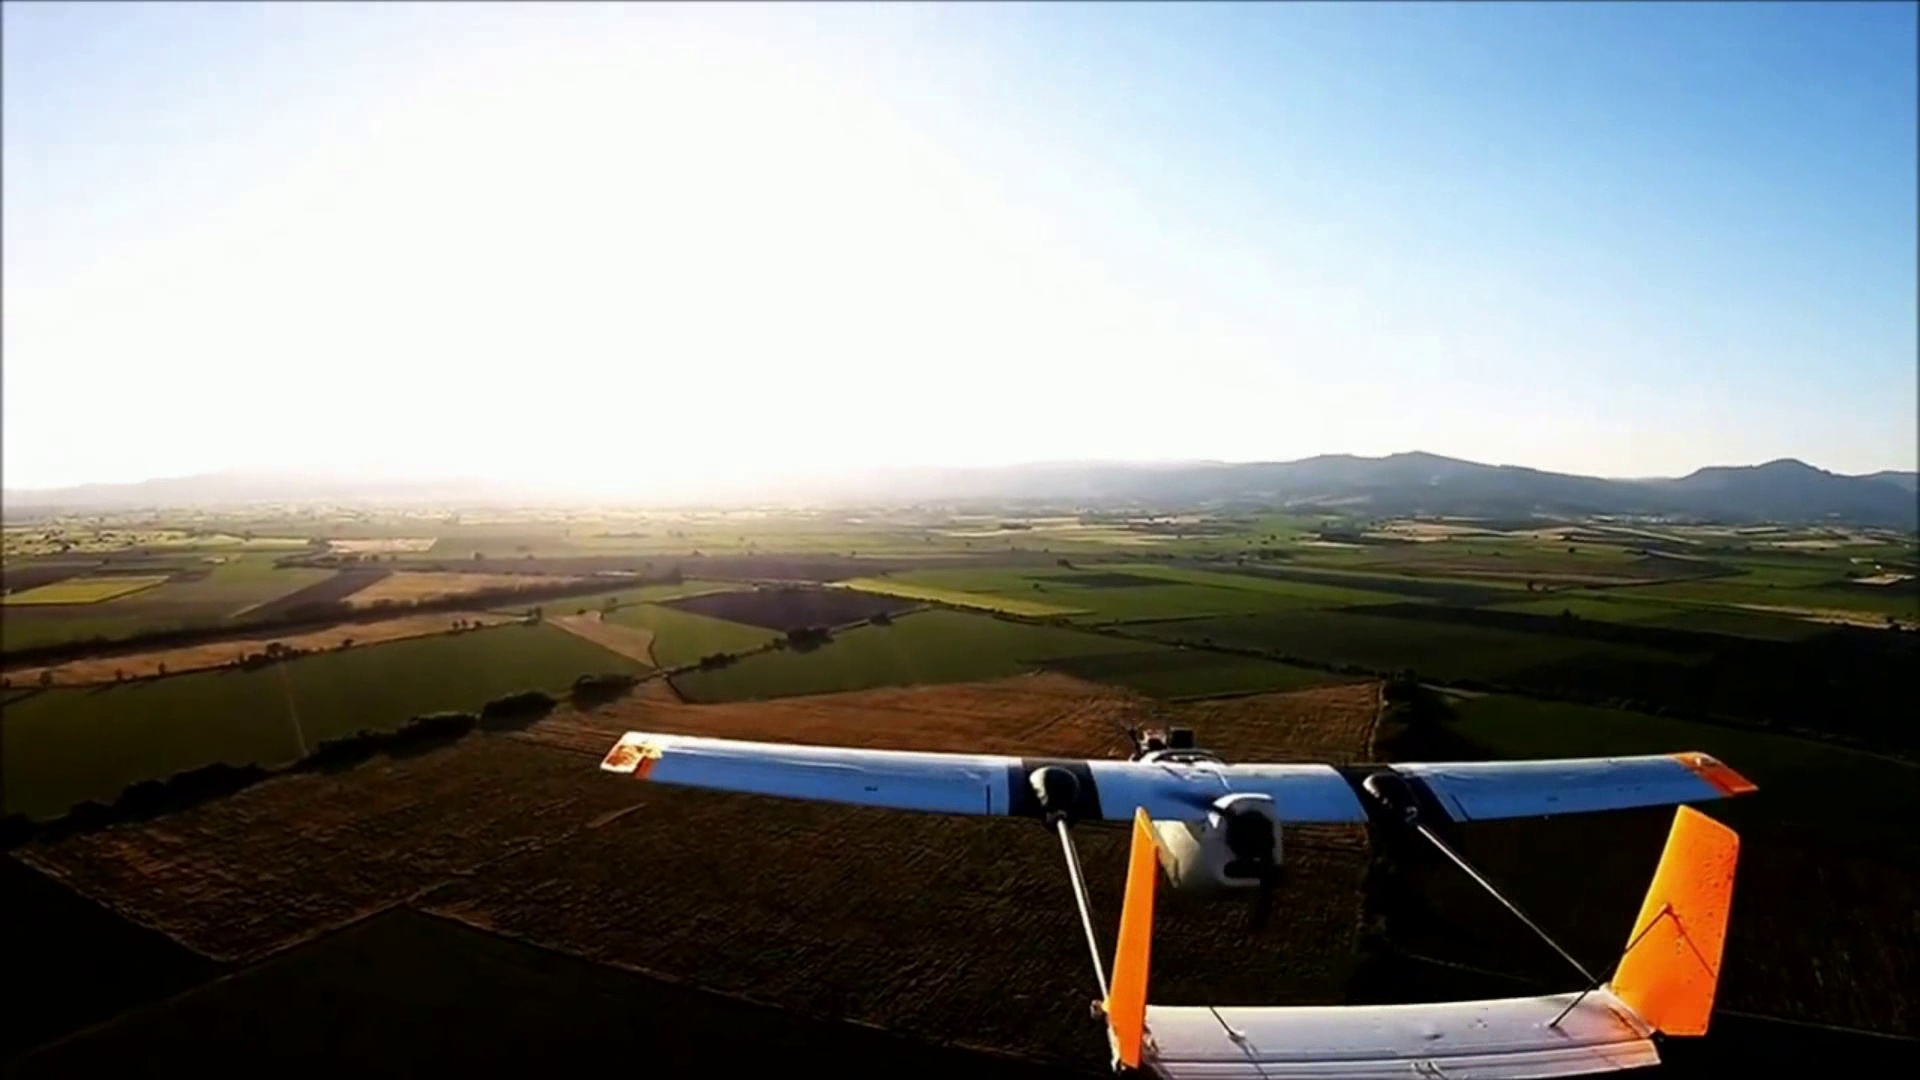airplane: (597, 727, 1756, 1069)
